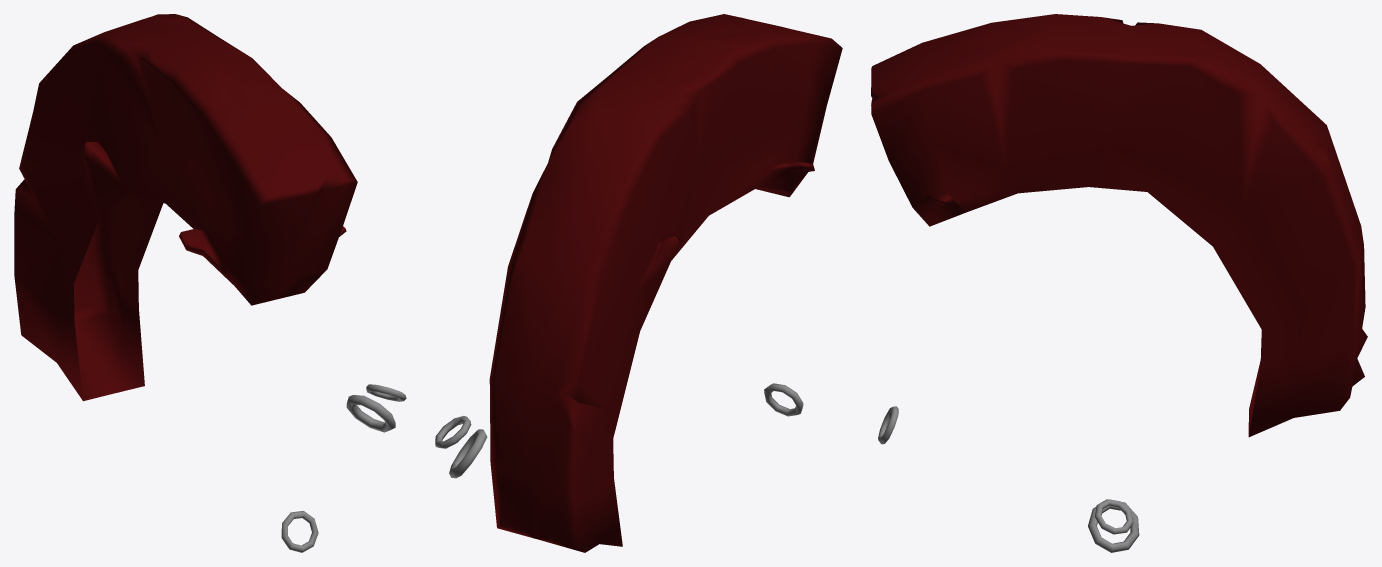
The model's file is mohawk.fbx.
3 views of the same model, side by side, from view 1: azimuth 30°, elevation 25°; view 2: azimuth 150°, elevation 25°; view 3: azimuth 270°, elevation 25° (orthographic). The views are drawn at different scales.
Parts seen in each view (by area): view 1: Mohawk_low; view 2: Mohawk_low; view 3: Mohawk_low.
Boxes of the visible parts, x1,y1,x2,y2 form: Mohawk_low: (14, 14, 406, 552); Mohawk_low: (435, 14, 842, 552); Mohawk_low: (871, 14, 1367, 552).
Size of the model in its own units: 11.03 by 16.05 by 16.85.
